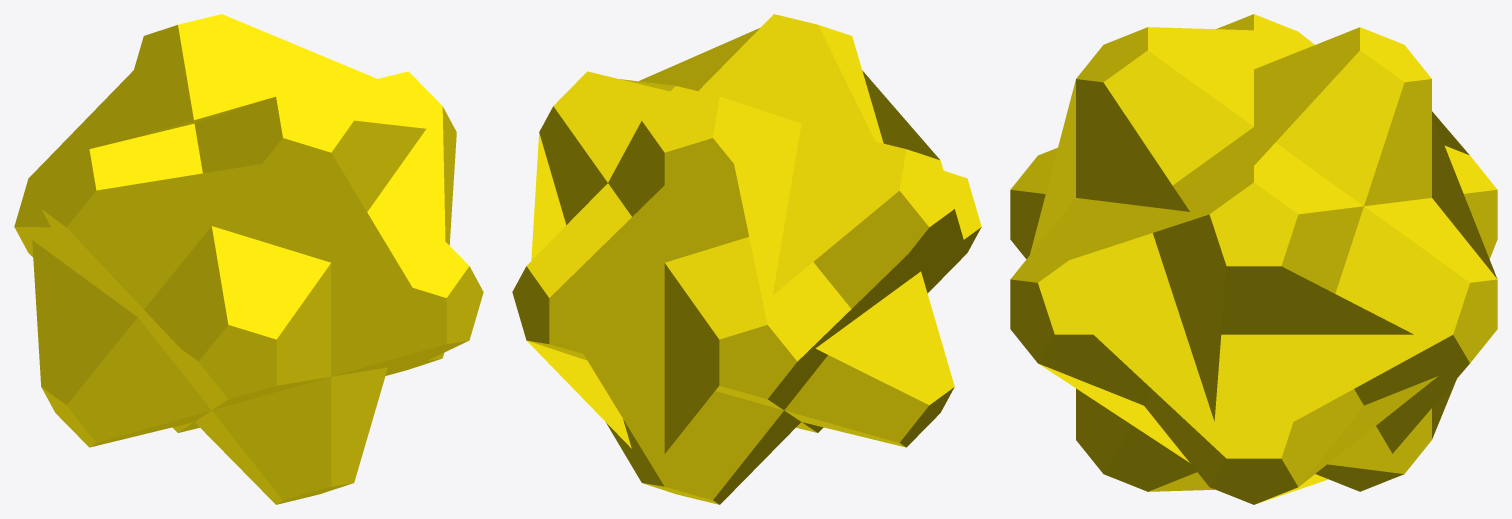
The model's file is Bonus.FBX.
3 renders of one model, left to right at view 1: azimuth 30°, elevation 25°; view 2: azimuth 150°, elevation 25°; view 3: azimuth 270°, elevation 25°, orthographic. The views are drawn at different scales.
Parts seen in each view (by area): view 1: BonusTwo; view 2: BonusTwo; view 3: BonusTwo.
Boxes of the visible parts, x1,y1,x2,y2 form: BonusTwo: (14, 14, 483, 504); BonusTwo: (512, 14, 981, 504); BonusTwo: (1010, 14, 1497, 504).
Bounding box in the file's own units: 3.99 × 3.99 × 3.99.
